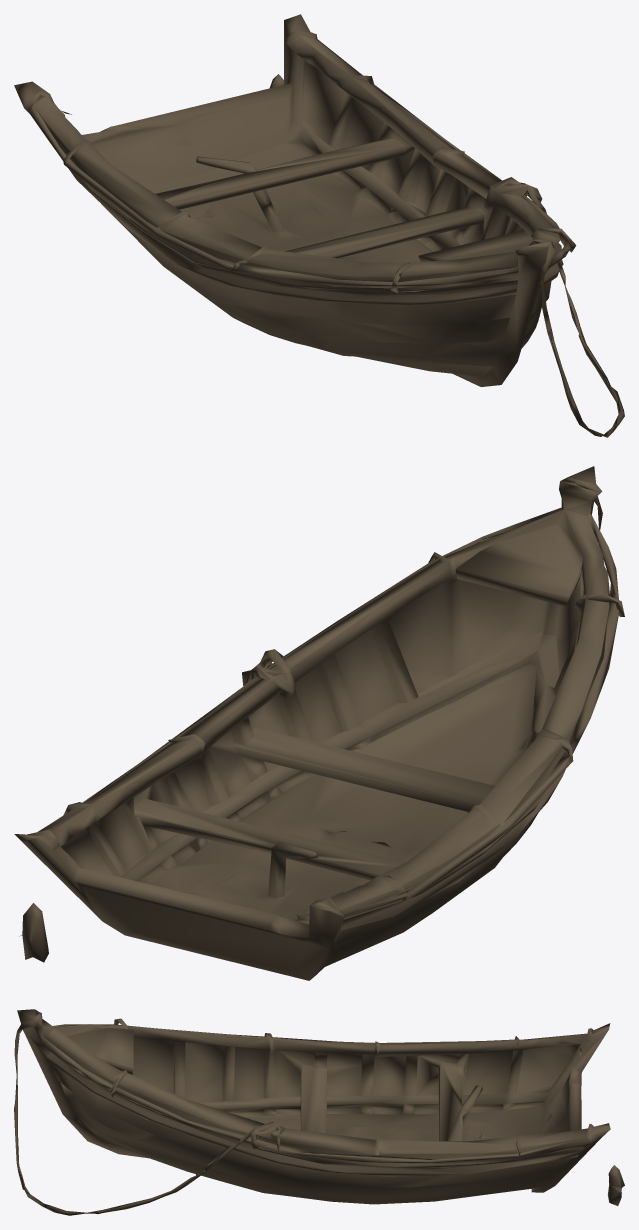
File: ferry-boat-small.glb
The picture shows the model from 3 angles, top to bottom: view 1: azimuth 30°, elevation 25°; view 2: azimuth 150°, elevation 25°; view 3: azimuth 270°, elevation 25°; orthographic projection. The views are drawn at different scales.
Visible parts, largest first — view 1: 소품.나룻배; view 2: 소품.나룻배; view 3: 소품.나룻배.
Part boxes in pixels (left/top/right/bottom): 소품.나룻배: left=14, top=14, right=624, bottom=437; 소품.나룻배: left=14, top=466, right=624, bottom=980; 소품.나룻배: left=14, top=1009, right=624, bottom=1215.
Bounding box in the file's own units: 2 × 1.32 × 4.4.
